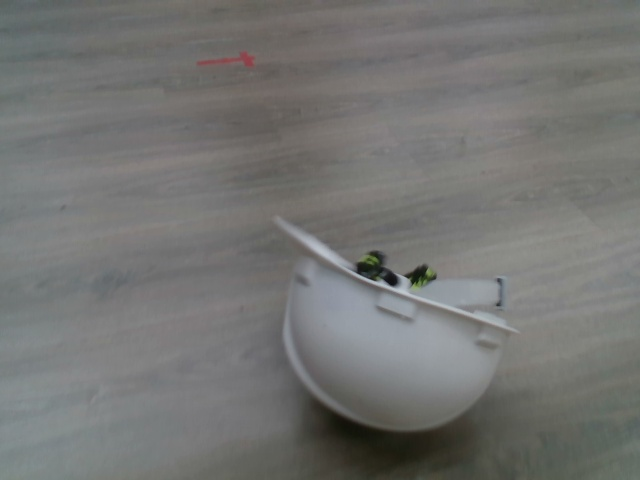helmet: (271, 207, 523, 439)
